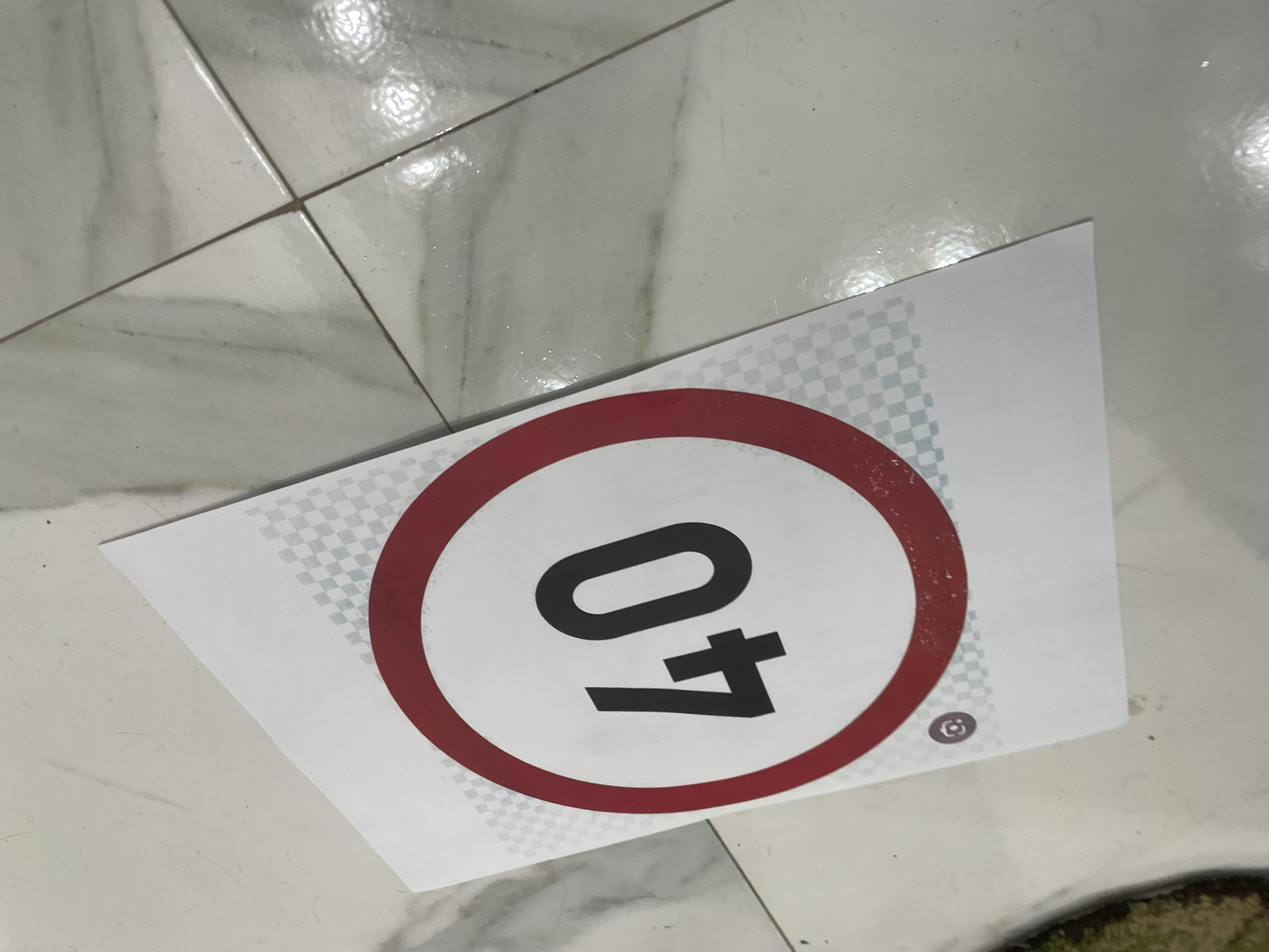40-Speed: (148, 267, 768, 732)
